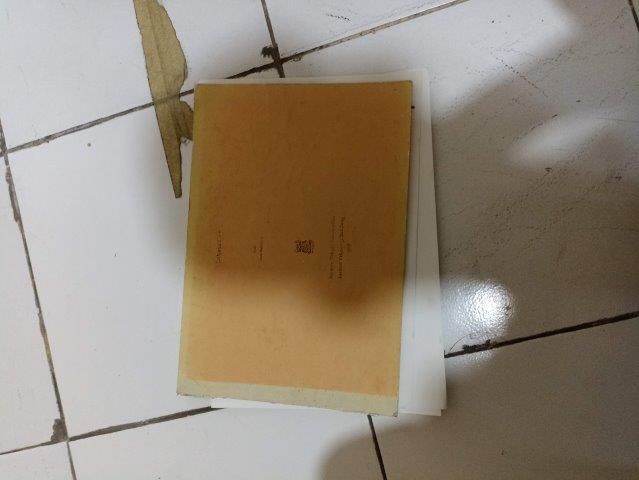kertas: (177, 70, 447, 417)
